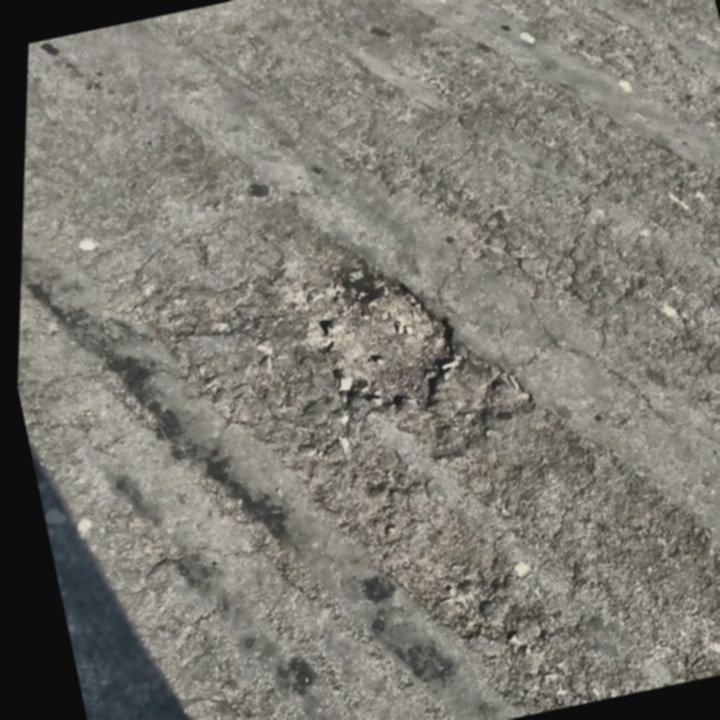pothole: (262, 230, 498, 454)
